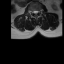CCS_normal: (35, 9, 36, 16)
LFS_normal: (38, 8, 40, 14)
LLS_normal: (36, 9, 38, 15)
RFS_normal: (31, 9, 33, 15)
RLS_normal: (33, 9, 35, 15)
